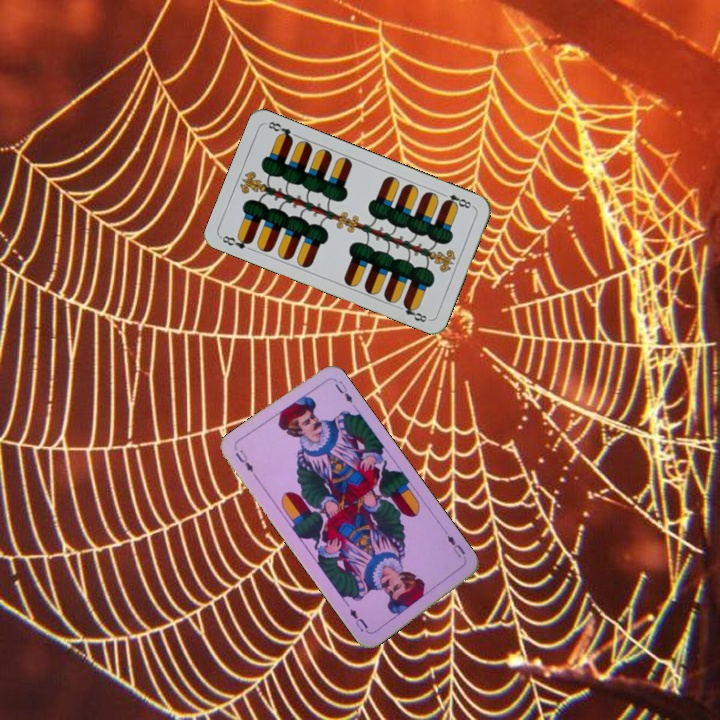E8: (438, 189, 476, 211), (217, 231, 254, 252)
EU: (231, 445, 256, 475), (443, 531, 468, 560)
